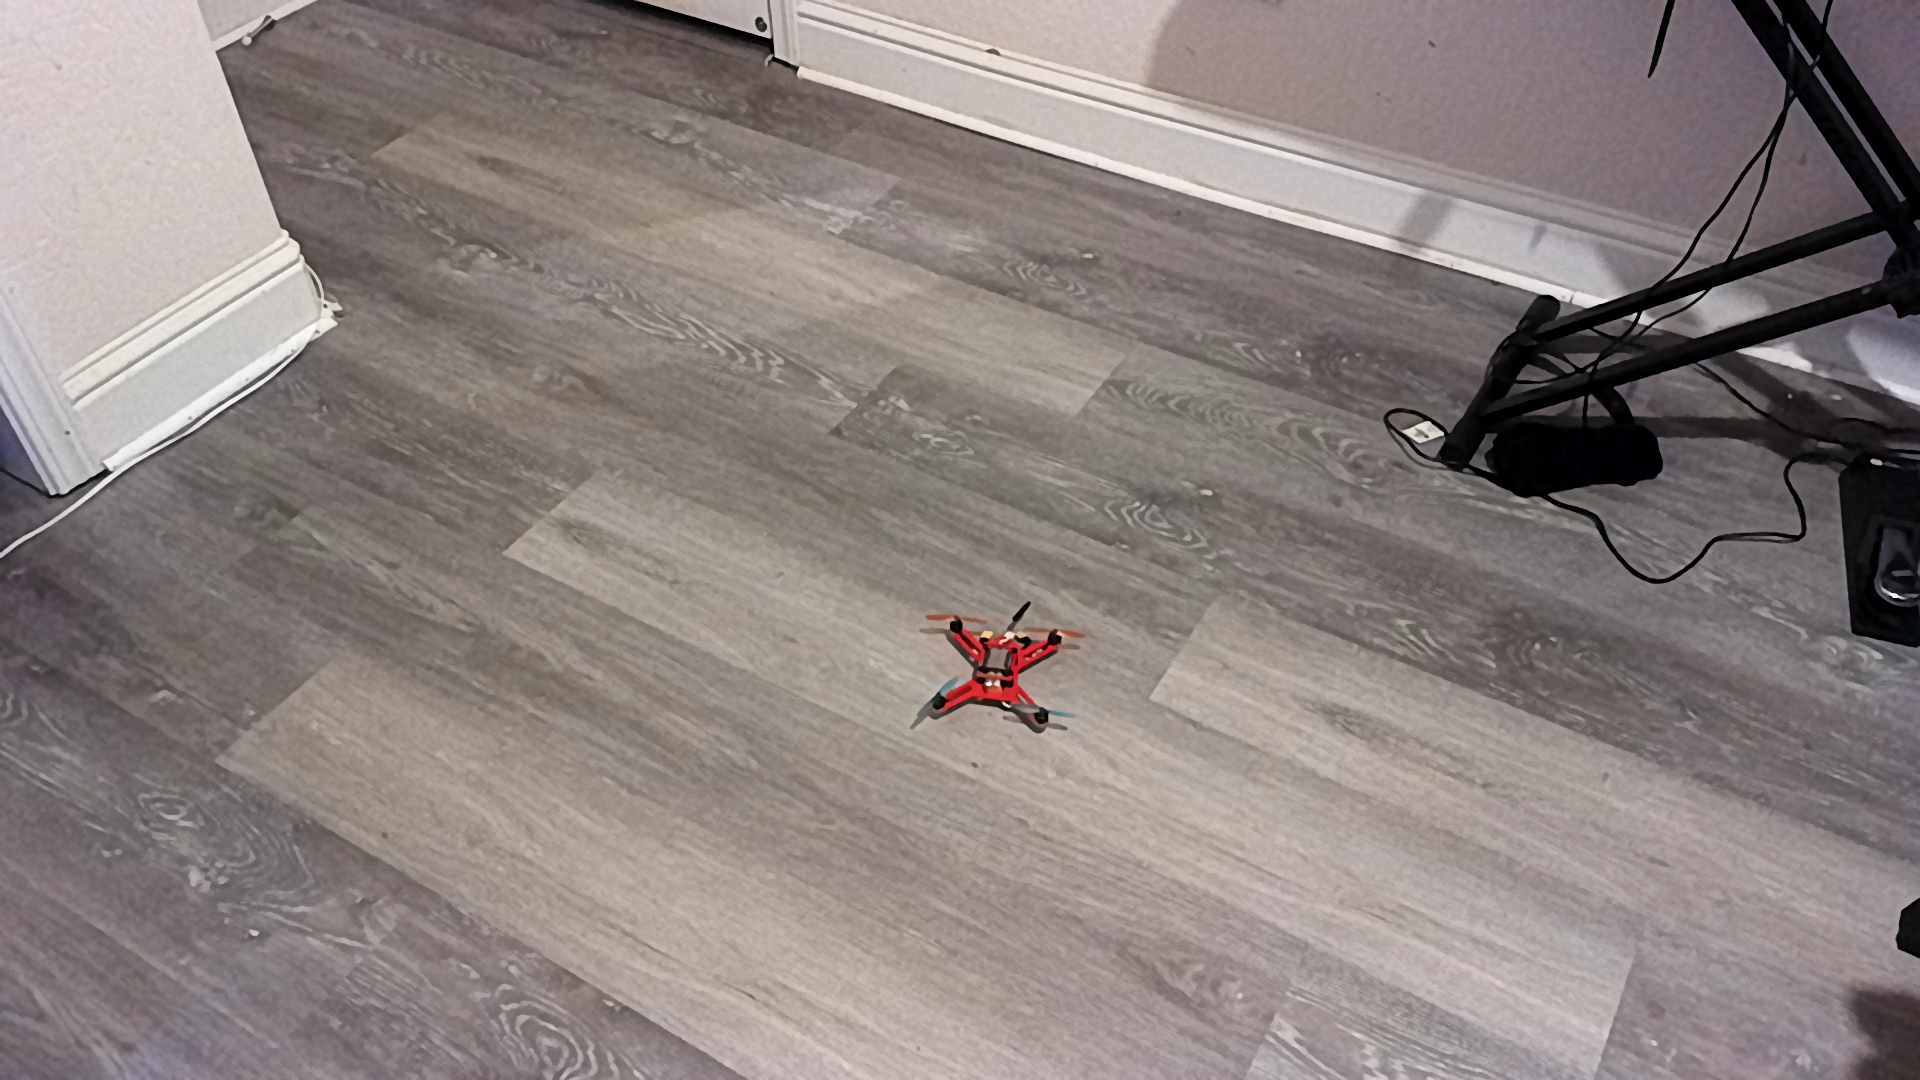drone: (898, 592, 1100, 742)
